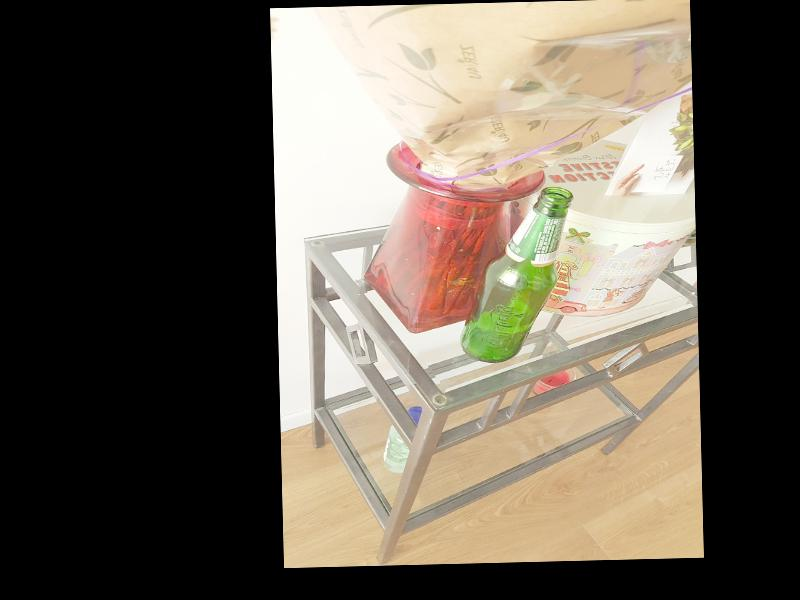Beer: (456, 186, 575, 363)
